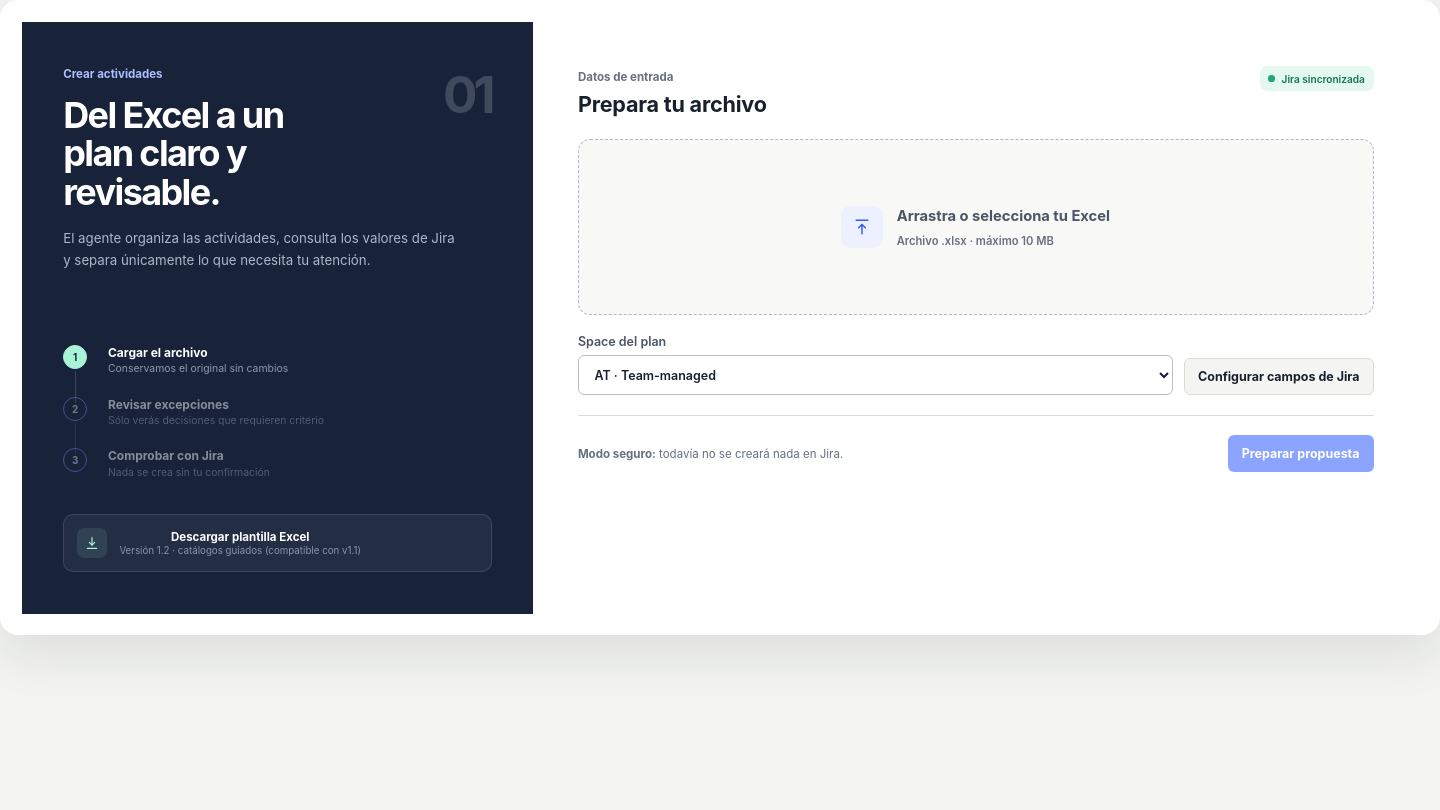
Test: App › carga los cinco valores generales de una nueva propuesta como menús de Jira
The width and height of the screenshot is (1440, 810).
Click the button "Configurar campos de Jira" at (1279, 377), box 1184,358 -> 1374,395
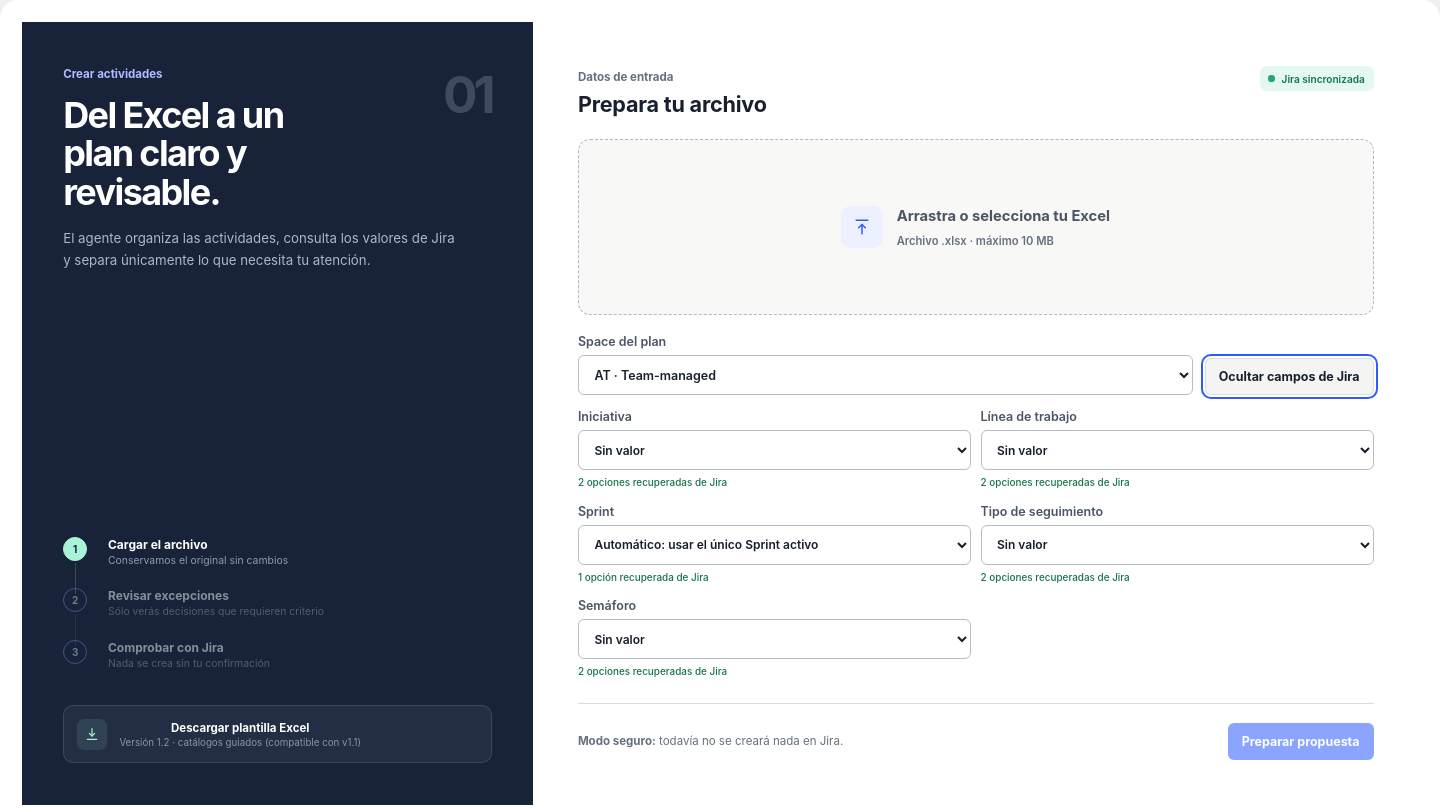
Result: the dropdown labelled "Iniciativa" is enabled at 578,430 -> 971,470
Result: the dropdown labelled "Línea de trabajo" is enabled at 980,430 -> 1374,470
Result: the dropdown labelled "Sprint" is enabled at 578,525 -> 971,565
